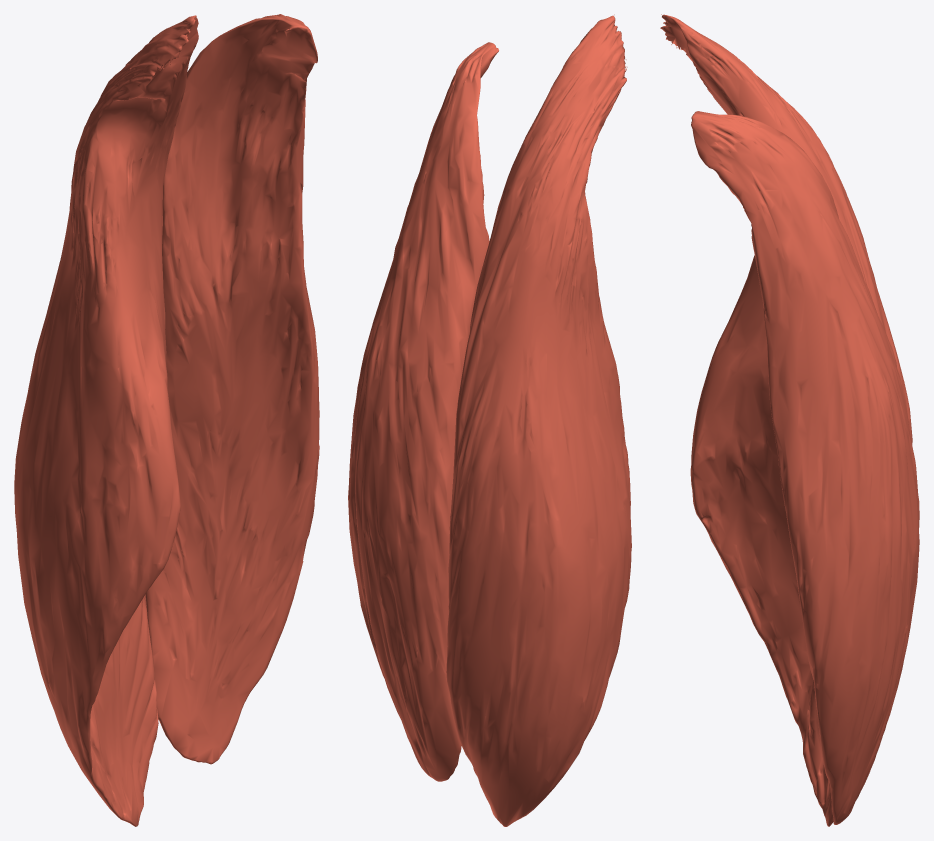
Rendered from gastrocnemius.glb.
3 renders of one model, left to right at view 1: azimuth 30°, elevation 25°; view 2: azimuth 150°, elevation 25°; view 3: azimuth 270°, elevation 25°, orthographic. The views are drawn at different scales.
Parts seen in each view (by area): view 1: Lateral head of gastrocnemius.l, Medial head of gastrocnemius.l; view 2: Medial head of gastrocnemius.l, Lateral head of gastrocnemius.l; view 3: Lateral head of gastrocnemius.l, Medial head of gastrocnemius.l.
Boxes of the visible parts, x1,y1,x2,y2 form: Lateral head of gastrocnemius.l: [145, 14, 319, 764]; Medial head of gastrocnemius.l: [14, 15, 198, 826]; Medial head of gastrocnemius.l: [446, 14, 631, 826]; Lateral head of gastrocnemius.l: [348, 42, 498, 781]; Lateral head of gastrocnemius.l: [691, 111, 919, 824]; Medial head of gastrocnemius.l: [660, 14, 912, 826].
Bounding box in the file's own units: 0.0998 × 0.2998 × 0.0883.
